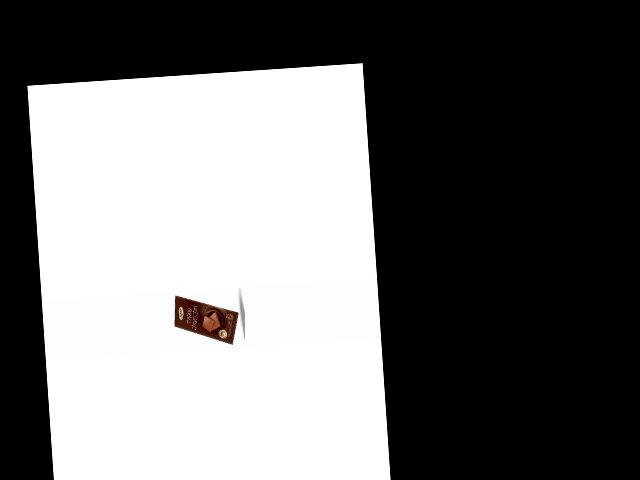chocolate: (171, 290, 243, 350)
